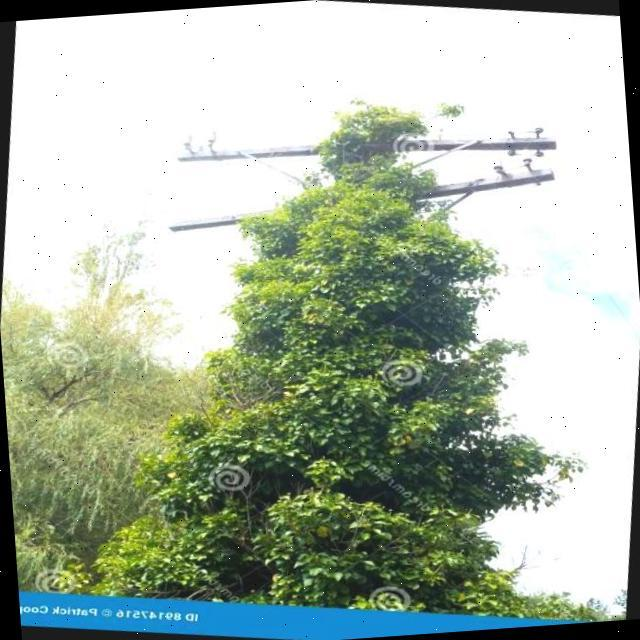critical vegetation: (134, 18, 568, 324)
